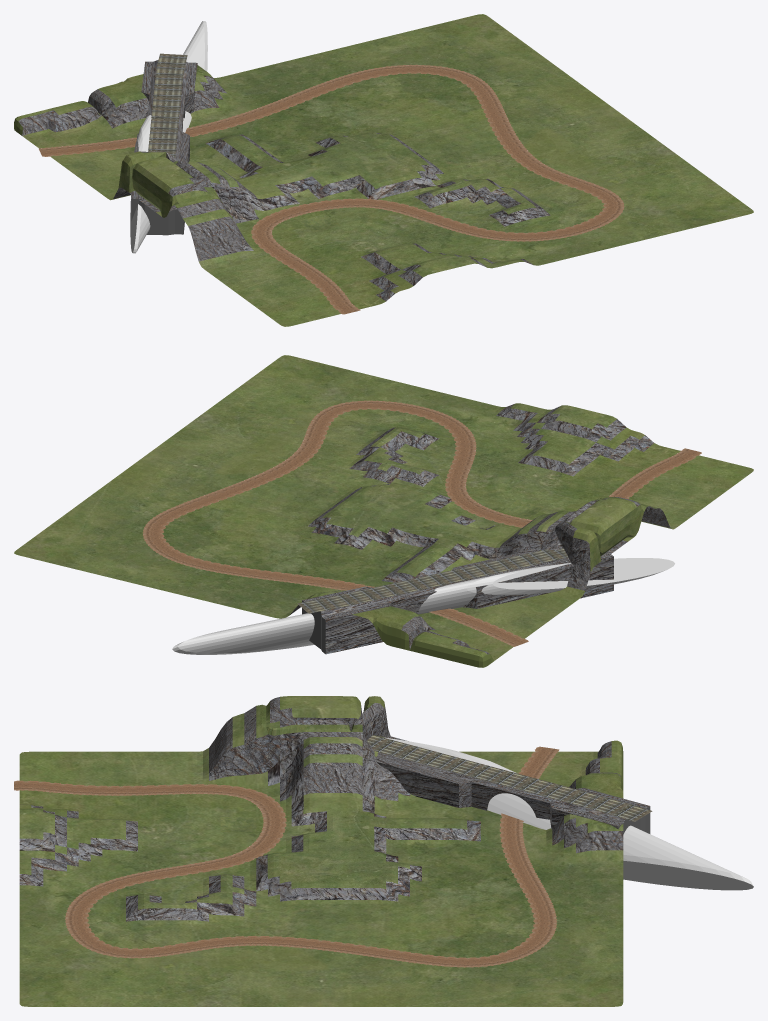
Rendered from map_2.fbx.
The picture shows the model from 3 angles, top to bottom: view 1: azimuth 30°, elevation 25°; view 2: azimuth 150°, elevation 25°; view 3: azimuth 270°, elevation 25°; orthographic projection. The views are drawn at different scales.
Visible parts, largest first — view 1: Plane, Plane.001, main_train_road_cube, train_road_plane, Cylinder.001; view 2: Plane, Plane.001, Cylinder.001, main_train_road_cube, train_road_plane; view 3: Plane, Plane.001, Cylinder.001, main_train_road_cube, train_road_plane.
Part boxes in pixels (x1=…): Plane: x1=14, y1=14, x2=753, y2=326; Plane.001: x1=39, y1=64, x2=624, y2=314; main_train_road_cube: x1=131, y1=60, x2=197, y2=235; train_road_plane: x1=148, y1=53, x2=187, y2=157; Cylinder.001: x1=130, y1=21, x2=207, y2=253; Plane: x1=14, y1=355, x2=753, y2=667; Plane.001: x1=142, y1=400, x2=701, y2=646; Cylinder.001: x1=172, y1=558, x2=674, y2=654; main_train_road_cube: x1=302, y1=550, x2=613, y2=654; train_road_plane: x1=297, y1=548, x2=567, y2=613; Plane: x1=19, y1=696, x2=623, y2=1006; Plane.001: x1=14, y1=746, x2=559, y2=967; Cylinder.001: x1=385, y1=737, x2=753, y2=890; main_train_road_cube: x1=375, y1=735, x2=650, y2=834; train_road_plane: x1=367, y1=735, x2=652, y2=821.
Size of the model in its own units: 21481 by 3220 by 24517.
5 materials, 4 textured.
